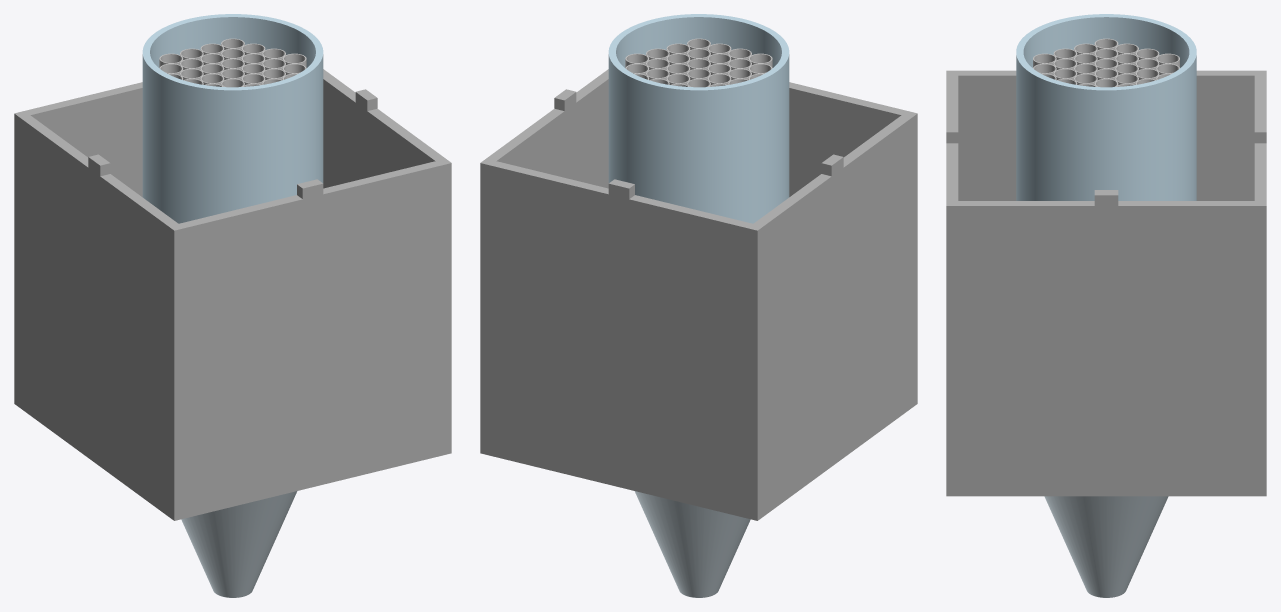
Rendered from assembly1.gltf.
3 renders of one model, left to right at view 1: azimuth 30°, elevation 25°; view 2: azimuth 150°, elevation 25°; view 3: azimuth 270°, elevation 25°, orthographic.
Parts seen in each view (by area): view 1: outer chamber, container, nozzle, straws; view 2: outer chamber, container, nozzle, straws; view 3: outer chamber, container, nozzle, straws.
Part boxes in pixels (x1=…): outer chamber: x1=14, y1=69, x2=451, y2=520; container: x1=142, y1=14, x2=323, y2=217; nozzle: x1=181, y1=491, x2=297, y2=597; straws: x1=159, y1=38, x2=306, y2=87; outer chamber: x1=480, y1=69, x2=917, y2=520; container: x1=608, y1=14, x2=789, y2=217; nozzle: x1=634, y1=491, x2=750, y2=597; straws: x1=625, y1=38, x2=772, y2=87; outer chamber: x1=946, y1=70, x2=1266, y2=496; container: x1=1016, y1=14, x2=1196, y2=200; nozzle: x1=1044, y1=496, x2=1168, y2=597; straws: x1=1033, y1=38, x2=1179, y2=87.
Bounding box in the file's own units: 0.135 × 0.25 × 0.135.
